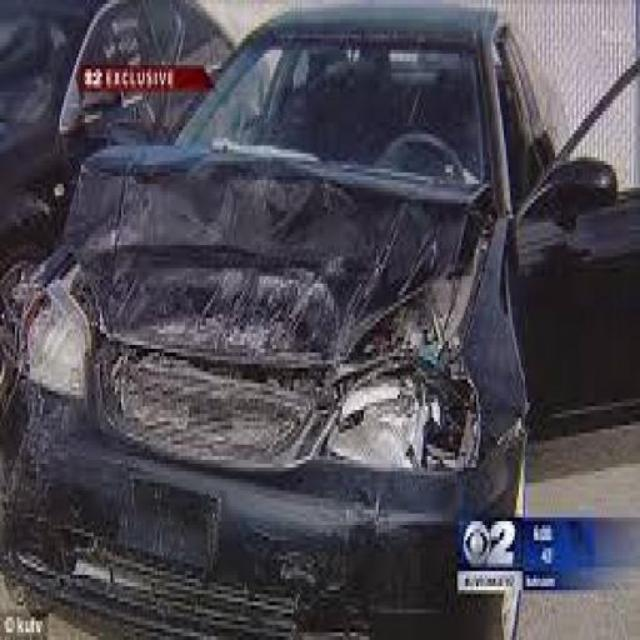crash: (2, 136, 529, 637)
